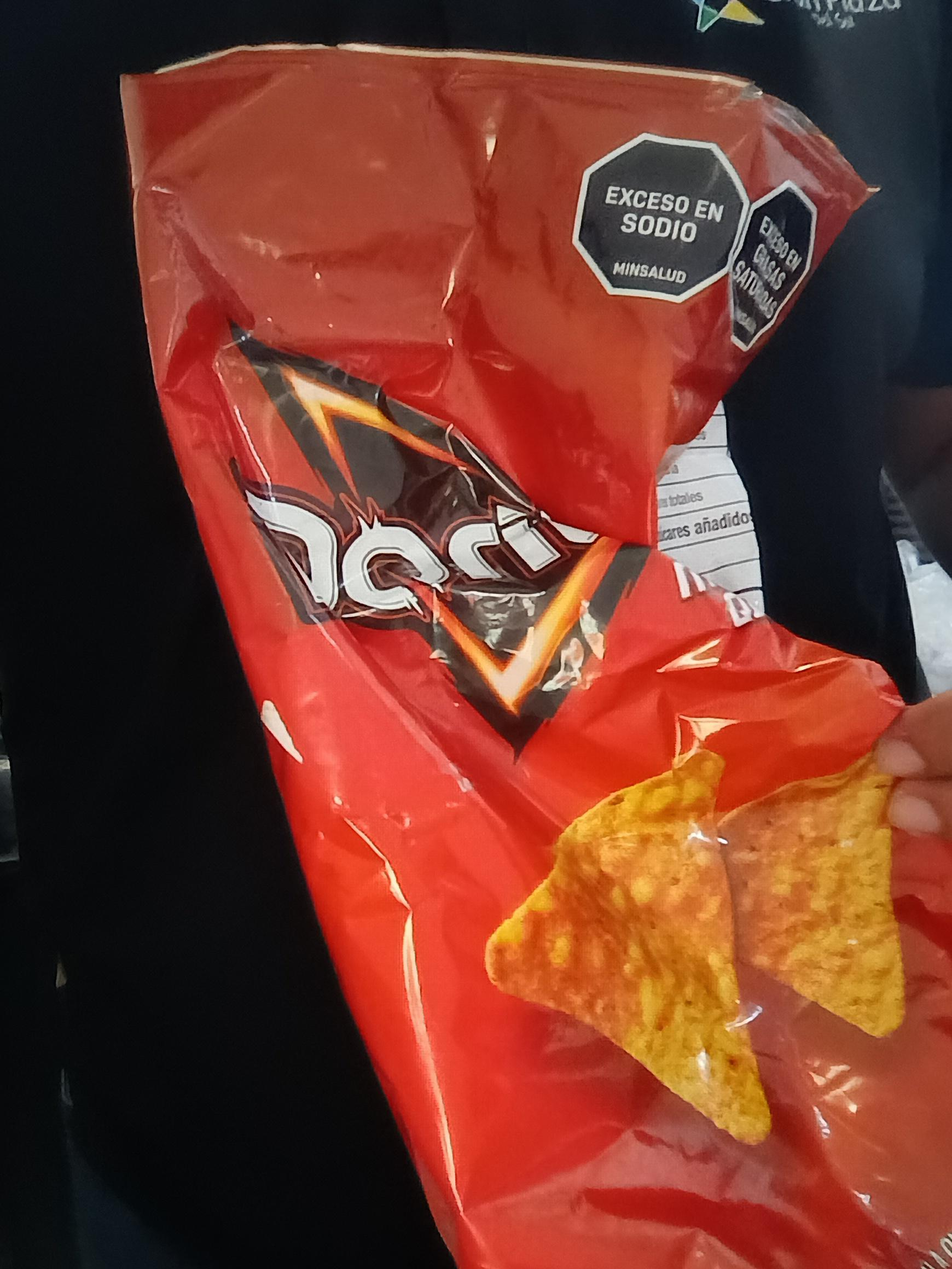Ordinario: (119, 42, 952, 1269)
